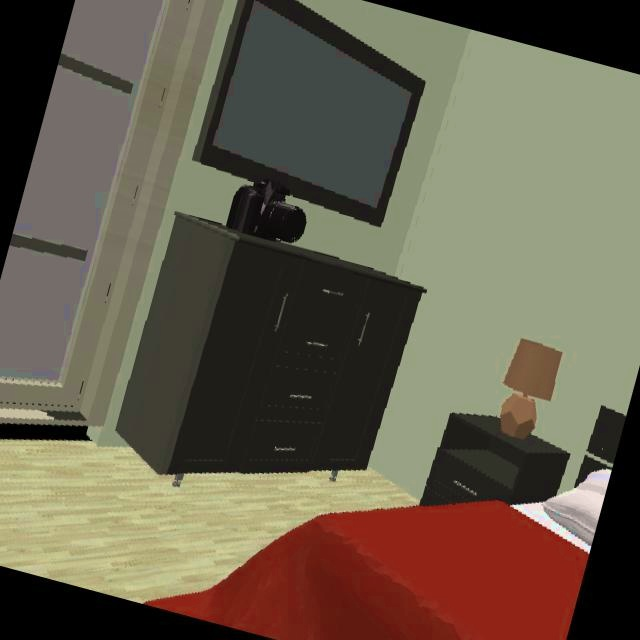bed: (145, 474, 608, 640)
cabinet: (113, 216, 425, 478)
lamp: (497, 339, 562, 441)
nighttable: (420, 415, 570, 506)
pillow: (512, 470, 610, 556)
